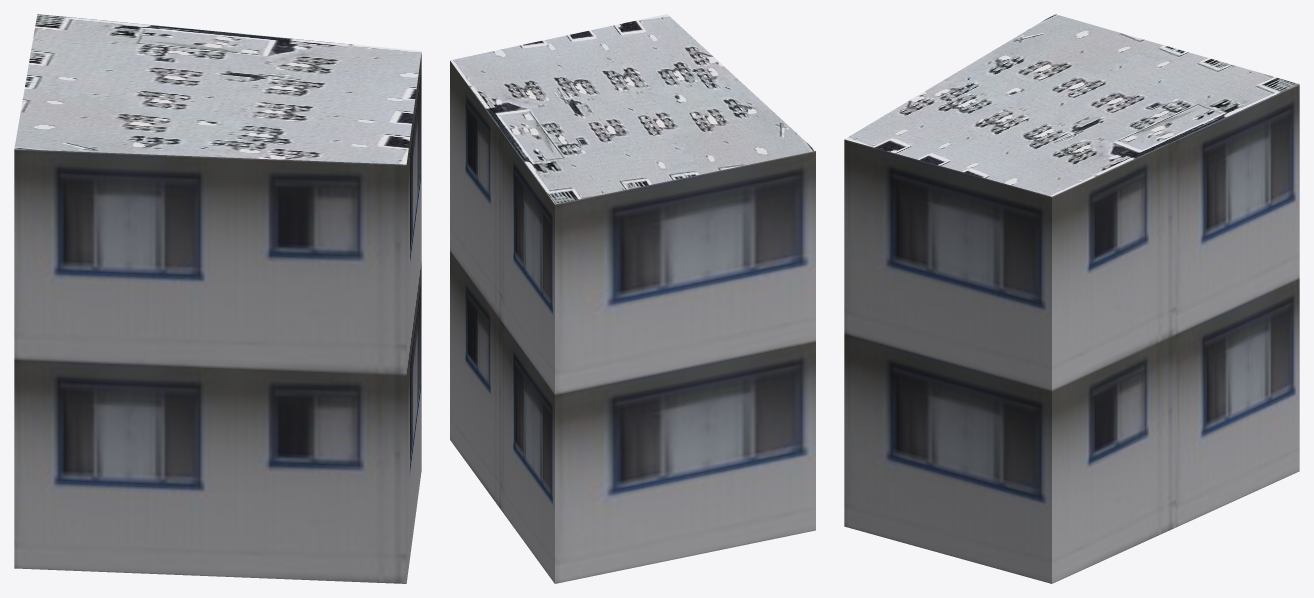
Rendered from ResTex__2037.fbx.
The picture shows the model from 3 angles, left to right: view 1: azimuth 30°, elevation 25°; view 2: azimuth 150°, elevation 25°; view 3: azimuth 270°, elevation 25°; orthographic projection. The views are drawn at different scales.
Visible parts, largest first — view 1: CityEngineMaterial_9_m, CityEngineMaterial_2_m; view 2: CityEngineMaterial_9_m, CityEngineMaterial_2_m; view 3: CityEngineMaterial_9_m, CityEngineMaterial_2_m.
Part boxes in pixels (bbox=[...]): CityEngineMaterial_9_m: bbox=[14, 52, 421, 583]; CityEngineMaterial_2_m: bbox=[14, 14, 421, 164]; CityEngineMaterial_9_m: bbox=[450, 61, 815, 583]; CityEngineMaterial_2_m: bbox=[450, 14, 815, 204]; CityEngineMaterial_9_m: bbox=[844, 84, 1299, 583]; CityEngineMaterial_2_m: bbox=[844, 14, 1299, 196].
Bounding box in the file's own units: 6.08 × 6 × 6.4.
2 materials, 2 textured.
